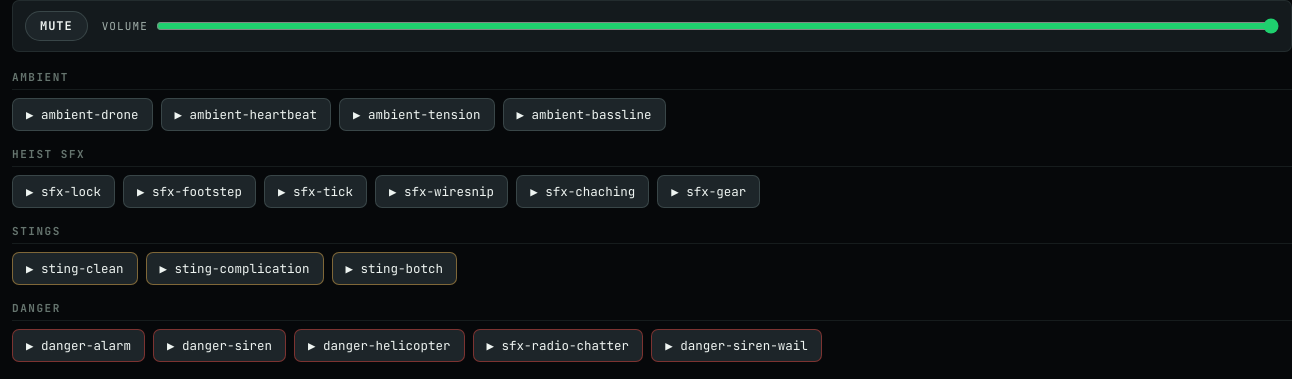
Test case: Soundboard — master mute / volume › mute button label changes between Mute and Unmute
Click the button with test id "btn-master-mute".
click(56, 26)  # box 25,11 -> 88,41
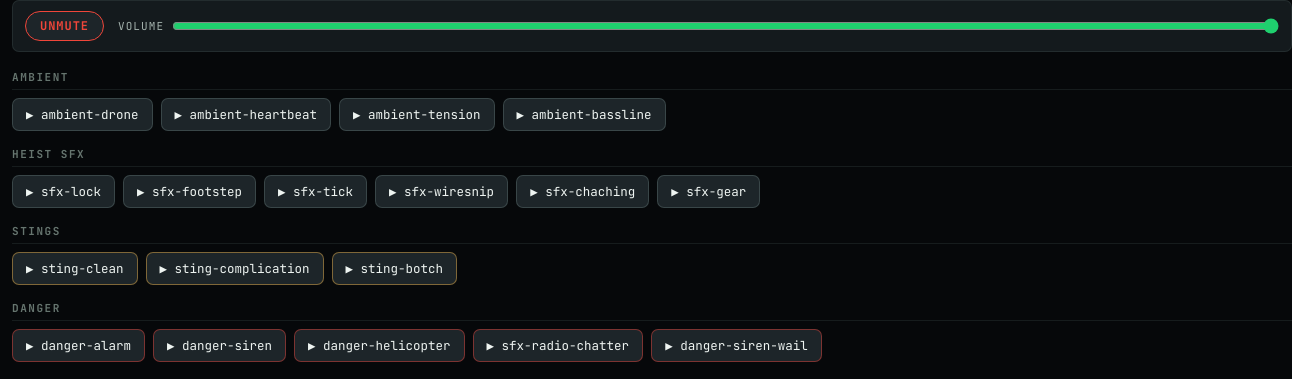
expect the button with test id "btn-master-mute" reads "Unmute": met
Click the button with test id "btn-master-mute".
click(64, 26)  # box 25,11 -> 104,41
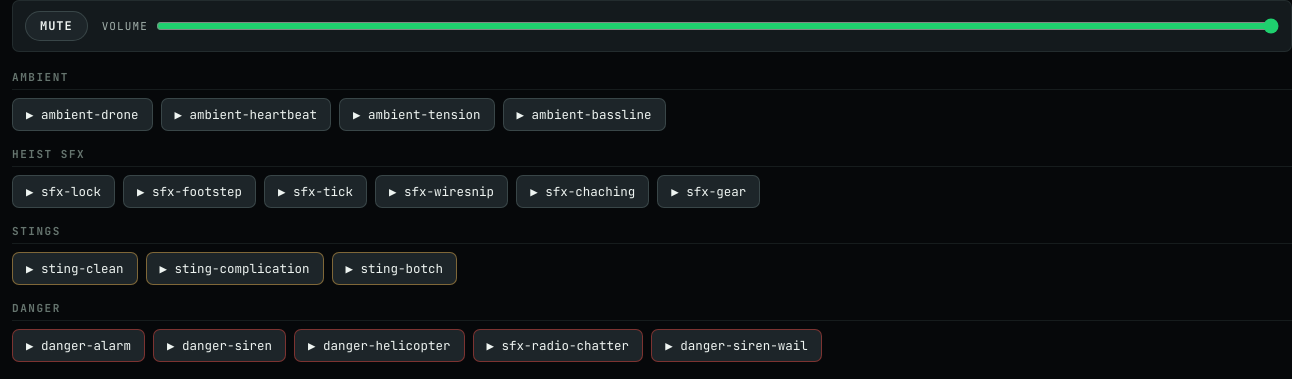
expect the button with test id "btn-master-mute" reads "Mute": met, box 25,11 -> 88,41
